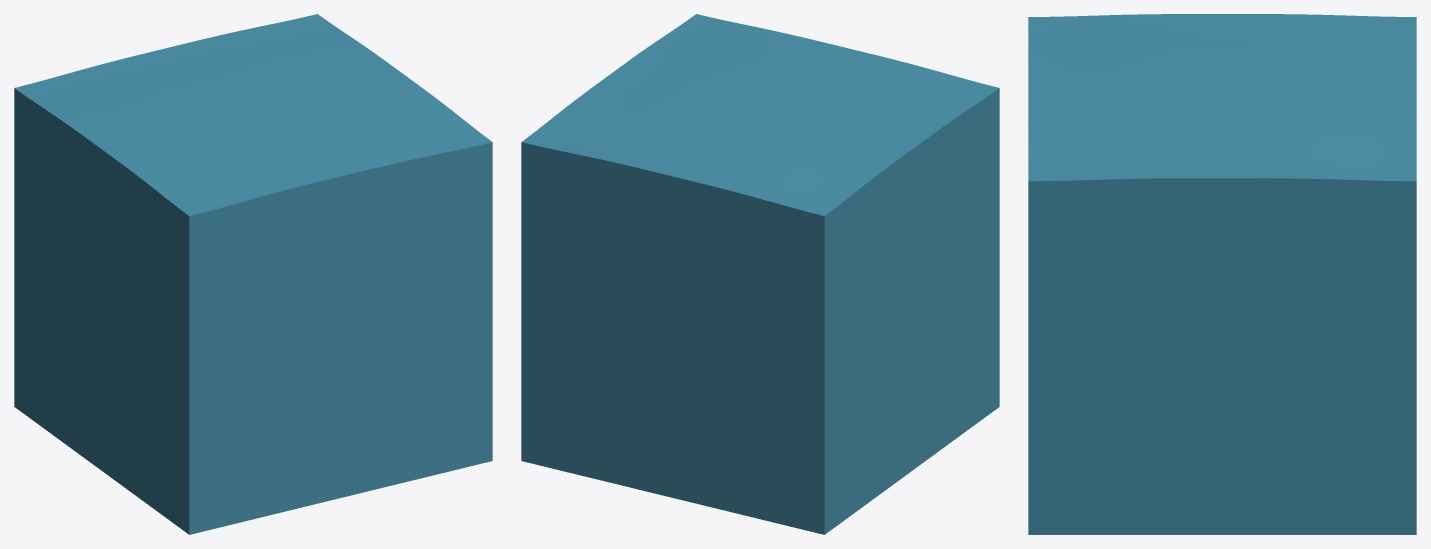
The model's file is slpool_wave61.glb.
3 views of the same model, side by side, from view 1: azimuth 30°, elevation 25°; view 2: azimuth 150°, elevation 25°; view 3: azimuth 270°, elevation 25° (orthographic). The views are drawn at different scales.
Visible parts, largest first — view 1: poolWater; view 2: poolWater; view 3: poolWater.
Part boxes in pixels (left/top/right/bottom): poolWater: left=14, top=14, right=492, bottom=534; poolWater: left=521, top=14, right=999, bottom=534; poolWater: left=1028, top=14, right=1416, bottom=534.
Bounding box in the file's own units: 2 × 2.04 × 2.
